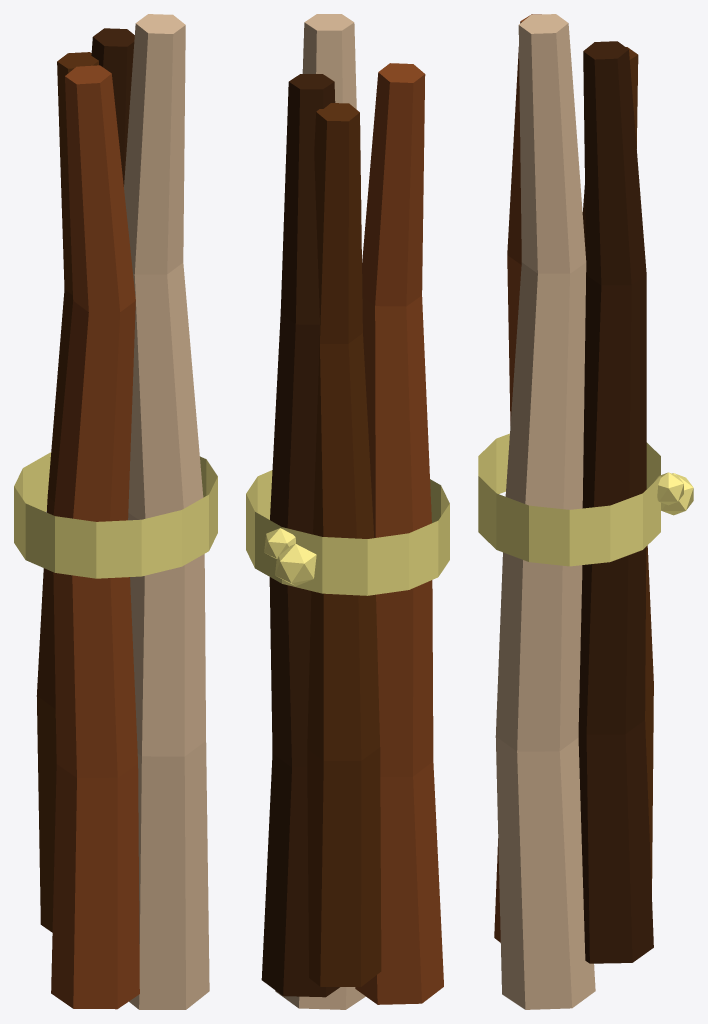
The model's file is branches.fbx.
The picture shows the model from 3 angles, left to right: view 1: azimuth 30°, elevation 25°; view 2: azimuth 150°, elevation 25°; view 3: azimuth 270°, elevation 25°; orthographic projection.
Visible parts, largest first — view 1: Twig1, Twig2, TwineBand, Twig3, Twig4; view 2: Twig1, Twig3, Twig4, TwineBand, Twig2; view 3: Twig2, Twig4, TwineBand, Twig1, Twig3.
Boxes of the visible parts, x1,y1,x2,y2 form: Twig1: (51,65,139,1009); Twig2: (124,14,209,1009); TwineBand: (14,452,217,578); Twig3: (36,52,98,932); Twig4: (91,28,134,186); Twig1: (355,63,443,1004); Twig3: (307,103,381,986); Twig4: (261,74,339,997); TwineBand: (246,470,449,595); Twig2: (275,14,365,1009); Twig2: (495,14,595,1009); Twig4: (578,41,653,963); TwineBand: (478,433,693,566); Twig1: (494,14,541,942); Twig3: (582,47,653,892).
Bounding box in the file's own units: 0.4 × 2.06 × 0.4138.
